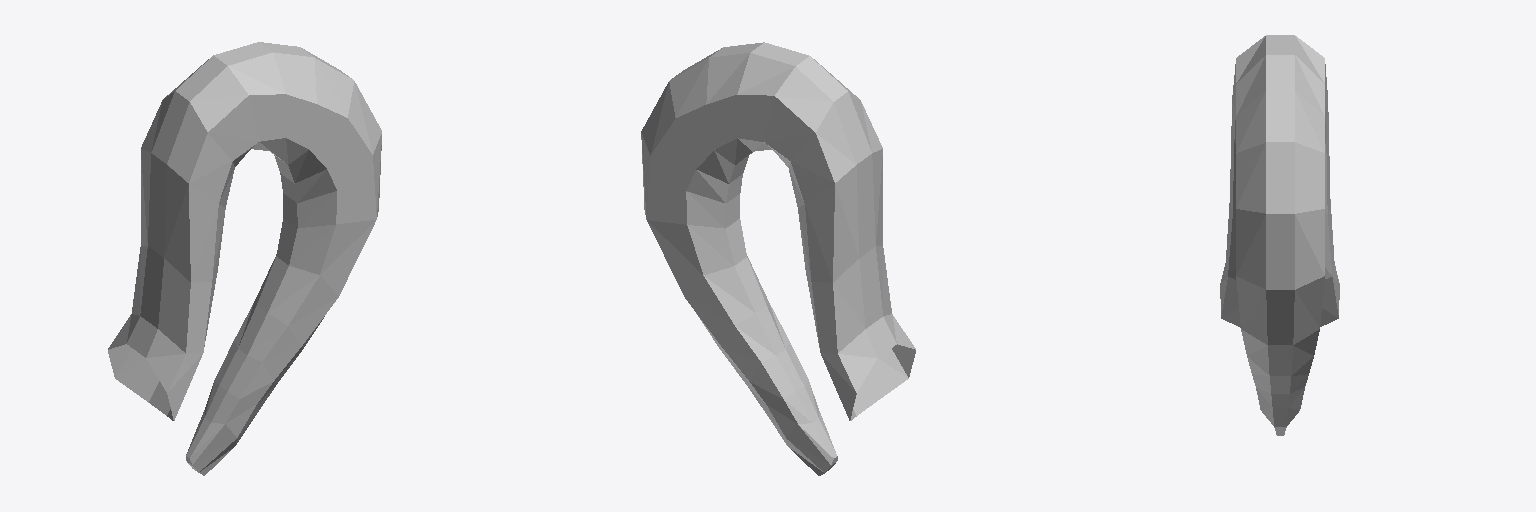
Rendered from stail.obj.
3 views of the same model, side by side, from view 1: azimuth 30°, elevation 25°; view 2: azimuth 150°, elevation 25°; view 3: azimuth 270°, elevation 25° (orthographic).
Parts seen in each view (by area): view 1: Object002.002_Mesh.005; view 2: Object002.002_Mesh.005; view 3: Object002.002_Mesh.005.
Boxes of the visible parts, box(x1,y1,x2,y2) form: Object002.002_Mesh.005: box(108, 42, 381, 475); Object002.002_Mesh.005: box(641, 42, 915, 475); Object002.002_Mesh.005: box(1220, 35, 1339, 435).
Bounding box in the file's own units: 0.0769 × 0.1268 × 0.0334.